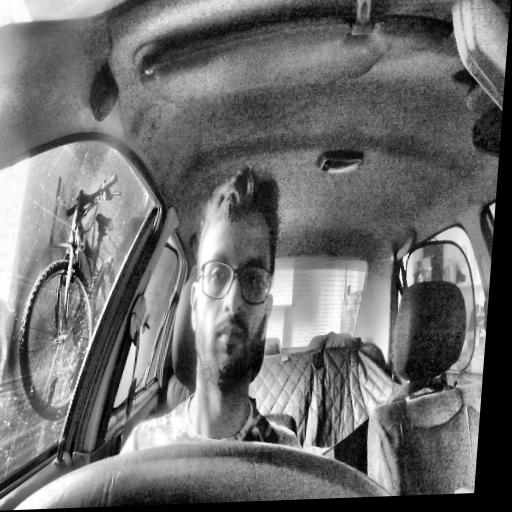awake: (183, 163, 285, 396)
